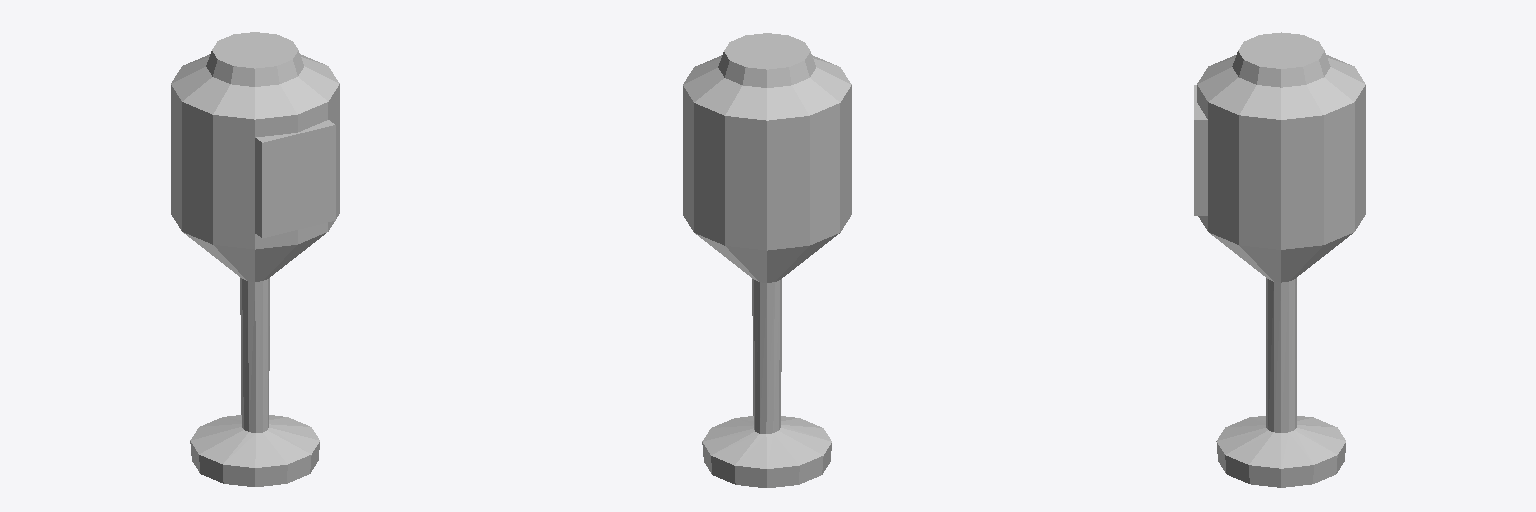
File: 检测仪.obj
3 views of the same model, side by side, from view 1: azimuth 30°, elevation 25°; view 2: azimuth 150°, elevation 25°; view 3: azimuth 270°, elevation 25° (orthographic).
Visible parts, largest first — view 1: Cylinder009, Box001; view 2: Cylinder009; view 3: Cylinder009, Box001.
Part boxes in pixels (x1,y1,x2,y2): Cylinder009: (171, 32, 339, 486); Box001: (255, 120, 335, 238); Cylinder009: (683, 33, 851, 487); Cylinder009: (1197, 32, 1365, 487); Box001: (1194, 85, 1207, 215).
Size of the model in its own units: 8 by 21.43 by 8.14.